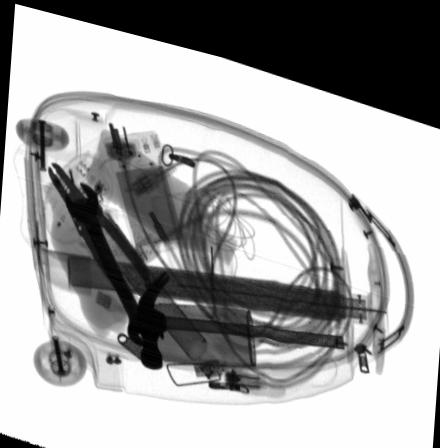Hammer: (136, 261, 346, 362)
Pliers: (48, 159, 152, 295)
Powerbank: (103, 122, 188, 250)
Wrench: (65, 177, 166, 339)
